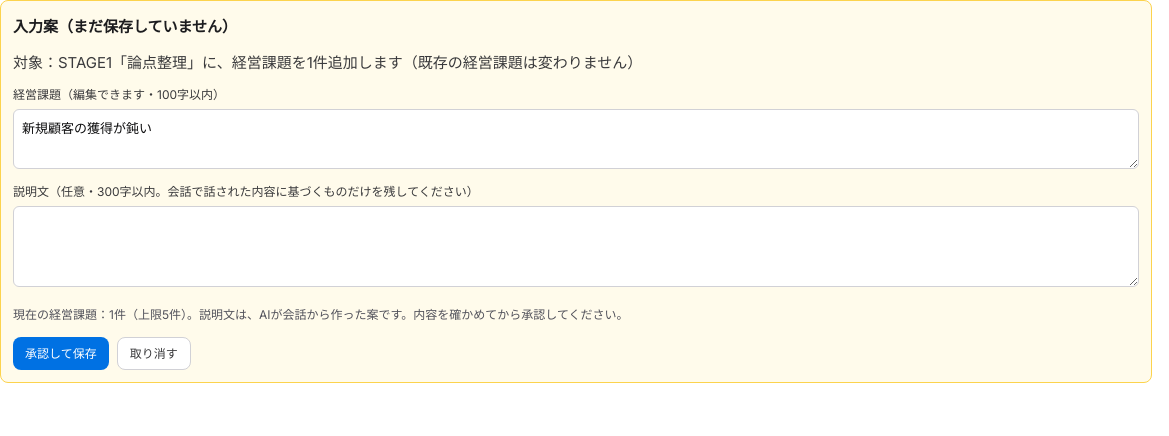
Scenario: 入力案の承認：STAGE1 経営課題の追加 › 未保存の変更があれば、保存せず、入力案は残す
This screenshot has width=1169, height=436.
Step 1. Click the button "承認して保存" → x=61, y=353, box [13, 337, 109, 370]
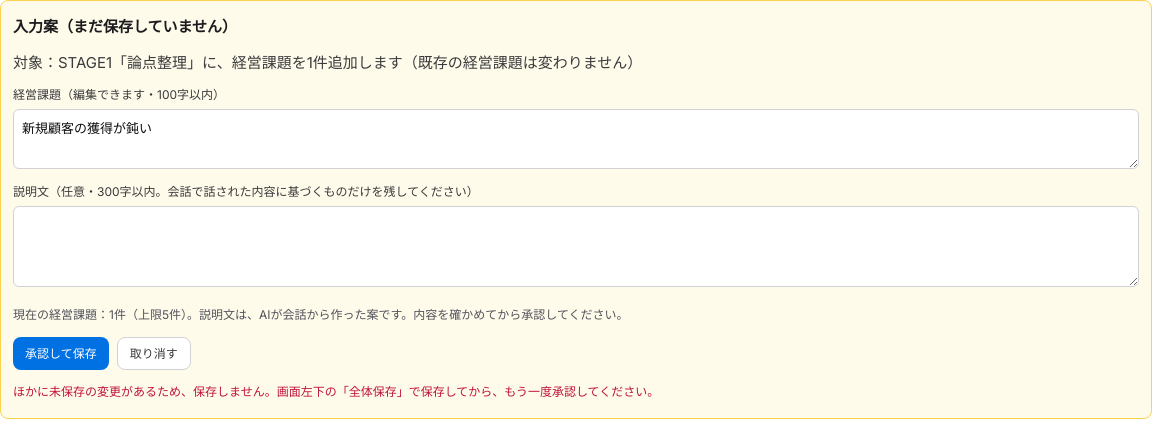
Result: the text "ほかに未保存の変更があるため、保存しません。画面左下の「全体保存」で保存してから、もう一度承認してください。" is shown at [13, 384, 659, 399]
